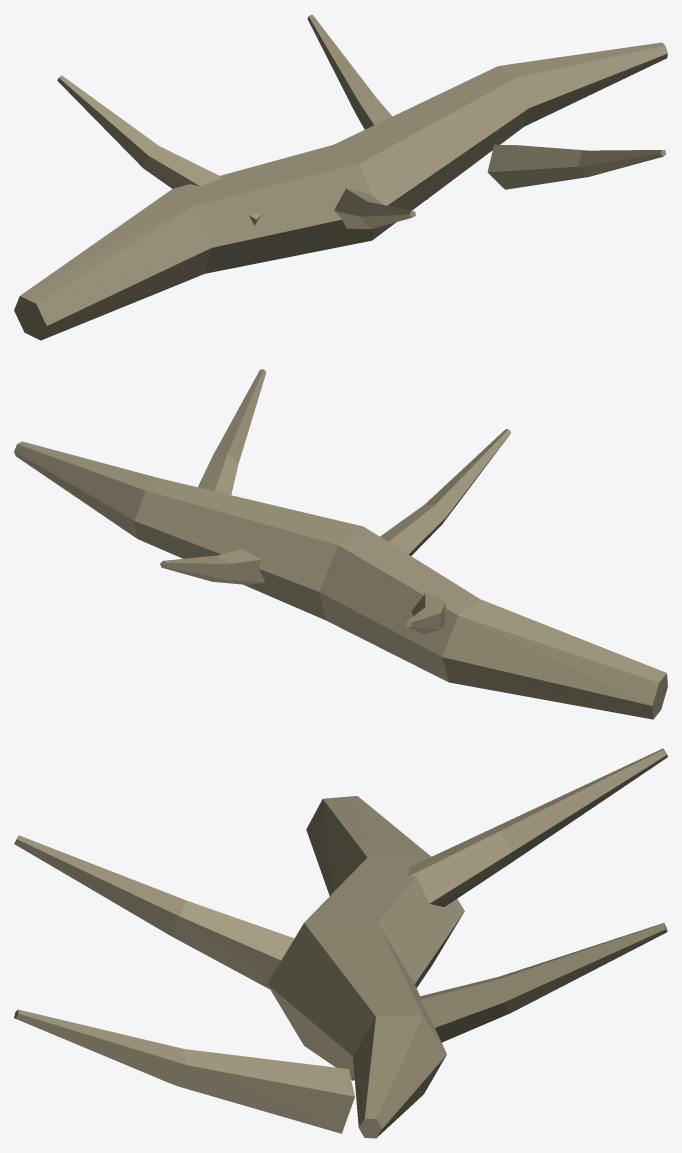
The model's file is Prop_Common_ForkedDriftwood_001_LOD1.glb.
3 views of the same model, one above another, from view 1: azimuth 30°, elevation 25°; view 2: azimuth 150°, elevation 25°; view 3: azimuth 270°, elevation 25° (orthographic). The views are drawn at different scales.
Visible parts, largest first — view 1: Prop_Common_ForkedDriftwood_001_LOD1; view 2: Prop_Common_ForkedDriftwood_001_LOD1; view 3: Prop_Common_ForkedDriftwood_001_LOD1.
Part boxes in pixels (x1,y1,x2,y2): Prop_Common_ForkedDriftwood_001_LOD1: [14, 14, 667, 340]; Prop_Common_ForkedDriftwood_001_LOD1: [14, 369, 667, 719]; Prop_Common_ForkedDriftwood_001_LOD1: [14, 748, 667, 1138].
Bounding box in the file's own units: 3.63 × 0.7686 × 2.22.
